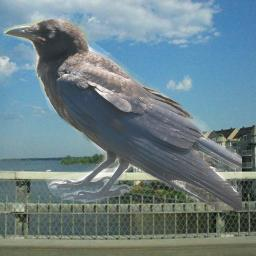Crow: (3, 19, 242, 211)
